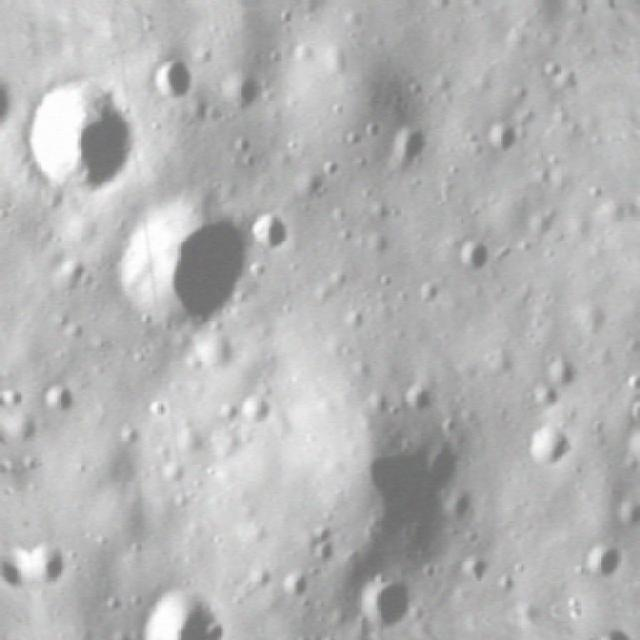crater: (95, 171, 268, 349), (320, 424, 492, 573), (8, 64, 150, 211), (123, 575, 240, 640), (369, 111, 443, 187), (348, 568, 420, 638), (515, 410, 579, 479), (144, 45, 204, 112), (243, 197, 300, 260), (578, 531, 636, 586), (28, 537, 78, 594), (393, 370, 444, 424), (444, 231, 498, 277), (36, 376, 81, 427), (272, 563, 320, 605), (480, 111, 522, 158), (615, 417, 640, 489), (455, 548, 496, 588), (234, 391, 274, 429), (543, 351, 580, 392), (530, 377, 562, 409), (340, 303, 372, 332), (307, 540, 338, 568), (415, 273, 442, 305), (308, 517, 335, 546), (215, 395, 239, 423), (624, 365, 640, 394), (626, 392, 640, 425)
